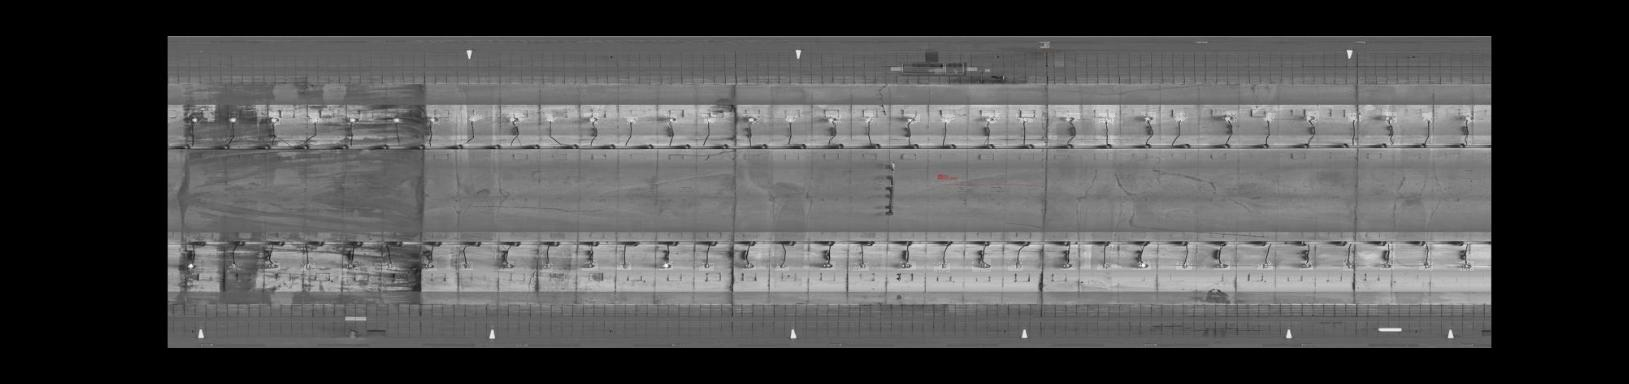light: (972, 259, 991, 272), (266, 112, 283, 126), (1304, 111, 1319, 125), (981, 113, 1000, 124), (506, 113, 524, 125), (1222, 111, 1237, 124), (1141, 112, 1156, 125), (1099, 113, 1115, 126), (342, 260, 360, 271), (419, 260, 437, 271), (897, 260, 916, 270), (1064, 113, 1081, 124), (308, 113, 322, 126), (1382, 112, 1397, 124), (584, 113, 599, 125), (934, 260, 950, 272), (1008, 259, 1023, 271), (224, 260, 243, 270), (1016, 114, 1033, 125), (345, 114, 362, 125), (184, 260, 201, 271), (498, 260, 514, 271), (582, 260, 598, 271), (903, 114, 920, 124), (743, 114, 760, 124), (1133, 260, 1151, 270), (466, 113, 482, 124), (300, 260, 316, 271), (853, 260, 869, 271), (1459, 260, 1474, 271), (1348, 113, 1361, 126), (264, 260, 281, 270), (820, 260, 836, 270), (941, 114, 955, 126), (426, 114, 440, 125), (699, 260, 714, 271), (824, 115, 842, 124), (1060, 260, 1075, 270), (1176, 260, 1192, 270), (1214, 260, 1230, 270), (1257, 260, 1273, 270), (226, 113, 239, 125), (1343, 259, 1356, 271), (1462, 113, 1475, 124), (1262, 113, 1276, 124), (1175, 113, 1189, 124), (702, 113, 716, 124), (187, 114, 201, 125), (1419, 260, 1433, 271), (659, 260, 673, 270), (1299, 260, 1313, 270), (1380, 260, 1394, 270), (1422, 113, 1434, 125), (541, 260, 553, 272), (382, 260, 395, 271), (457, 262, 473, 270), (617, 260, 631, 270), (743, 260, 756, 270), (1097, 260, 1111, 270), (545, 114, 558, 124), (390, 116, 405, 124), (664, 114, 677, 122), (775, 263, 789, 271), (624, 117, 638, 125), (864, 113, 874, 124), (786, 116, 797, 125)
